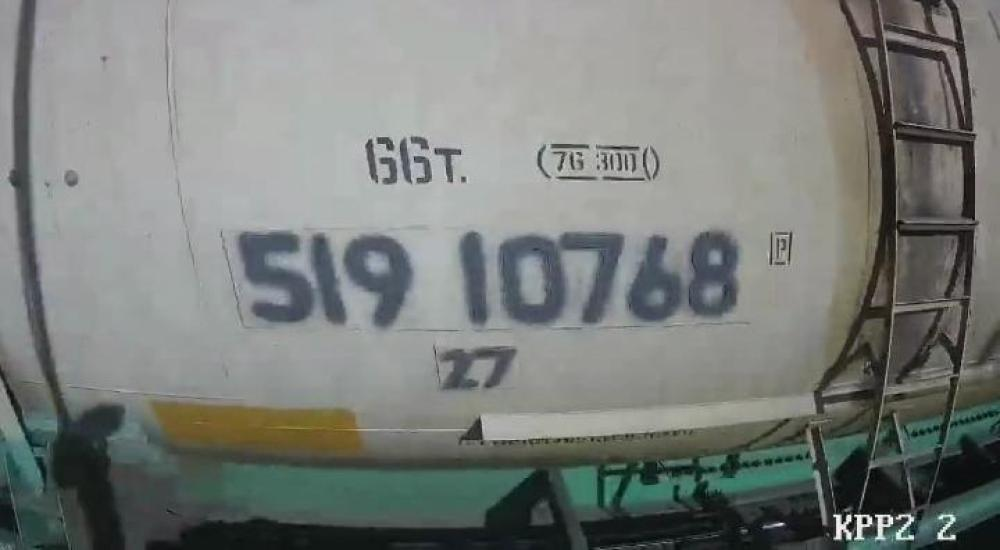Wagon-number: (229, 226, 748, 333)
